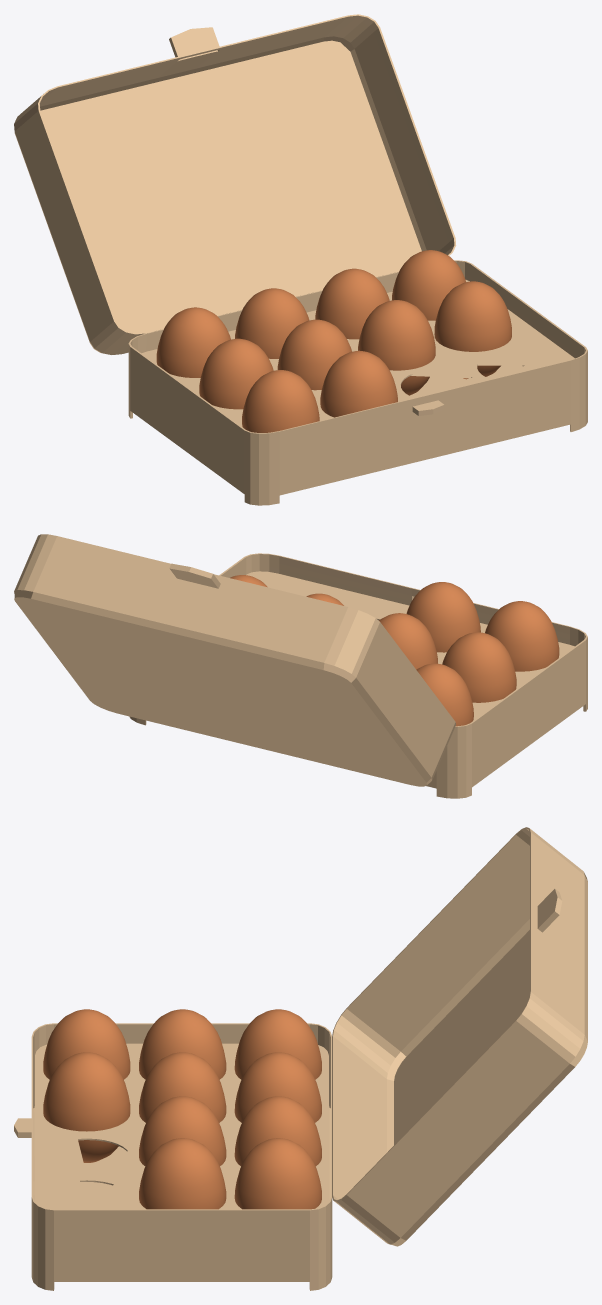
File: telur satu pak.fbx
3 renders of one model, top to bottom at view 1: azimuth 30°, elevation 25°; view 2: azimuth 150°, elevation 25°; view 3: azimuth 270°, elevation 25°, orthographic. The views are drawn at different scales.
Parts seen in each view (by area): view 1: Cube.002, Cylinder, Cube, Cube.001; view 2: Cube.002, Cylinder, Cube, Cube.001; view 3: Cube.002, Cylinder, Cube, Cube.001.
Boxes of the visible parts, box(x1,y1,x2,y2) form: Cube.002: box(14, 14, 456, 354); Cylinder: box(156, 250, 511, 432); Cube: box(128, 260, 587, 505); Cube.001: box(142, 280, 574, 427); Cube.002: box(14, 534, 455, 786); Cylinder: box(230, 575, 559, 726); Cube: box(129, 553, 587, 798); Cube.001: box(246, 571, 574, 720); Cube.002: box(332, 827, 587, 1246); Cylinder: box(43, 1009, 321, 1209); Cube: box(14, 1023, 332, 1290); Cube.001: box(35, 1043, 328, 1209).
Size of the model in its own units: 546 by 408 by 708.
